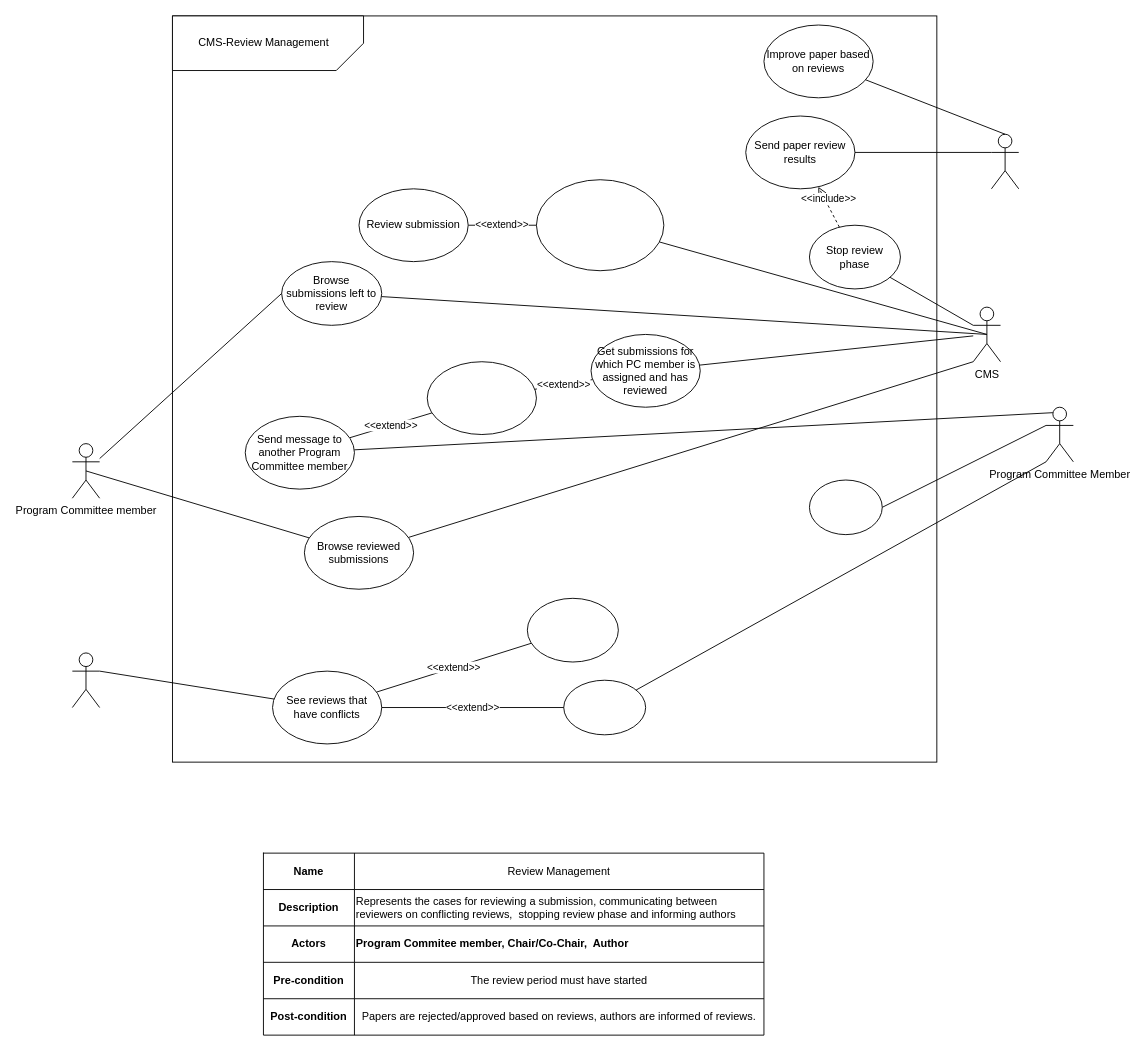
Image size: 1146x1051. Some labels were removed from this diagram. Here are the shapes that lost their labels. From the top down, the box of each, then its label:
(991, 133, 1019, 189): Author
(536, 179, 664, 271): Get submissions for which PC member is assigned, but has not yet reviewed
(426, 361, 536, 435): See Program Commitee Members with conflicting reviews
(809, 479, 882, 535): Receive message
(526, 597, 618, 662): Decide on outcome
(71, 652, 100, 708): Chair or Co-chair
(563, 679, 646, 735): Add new reviewer
